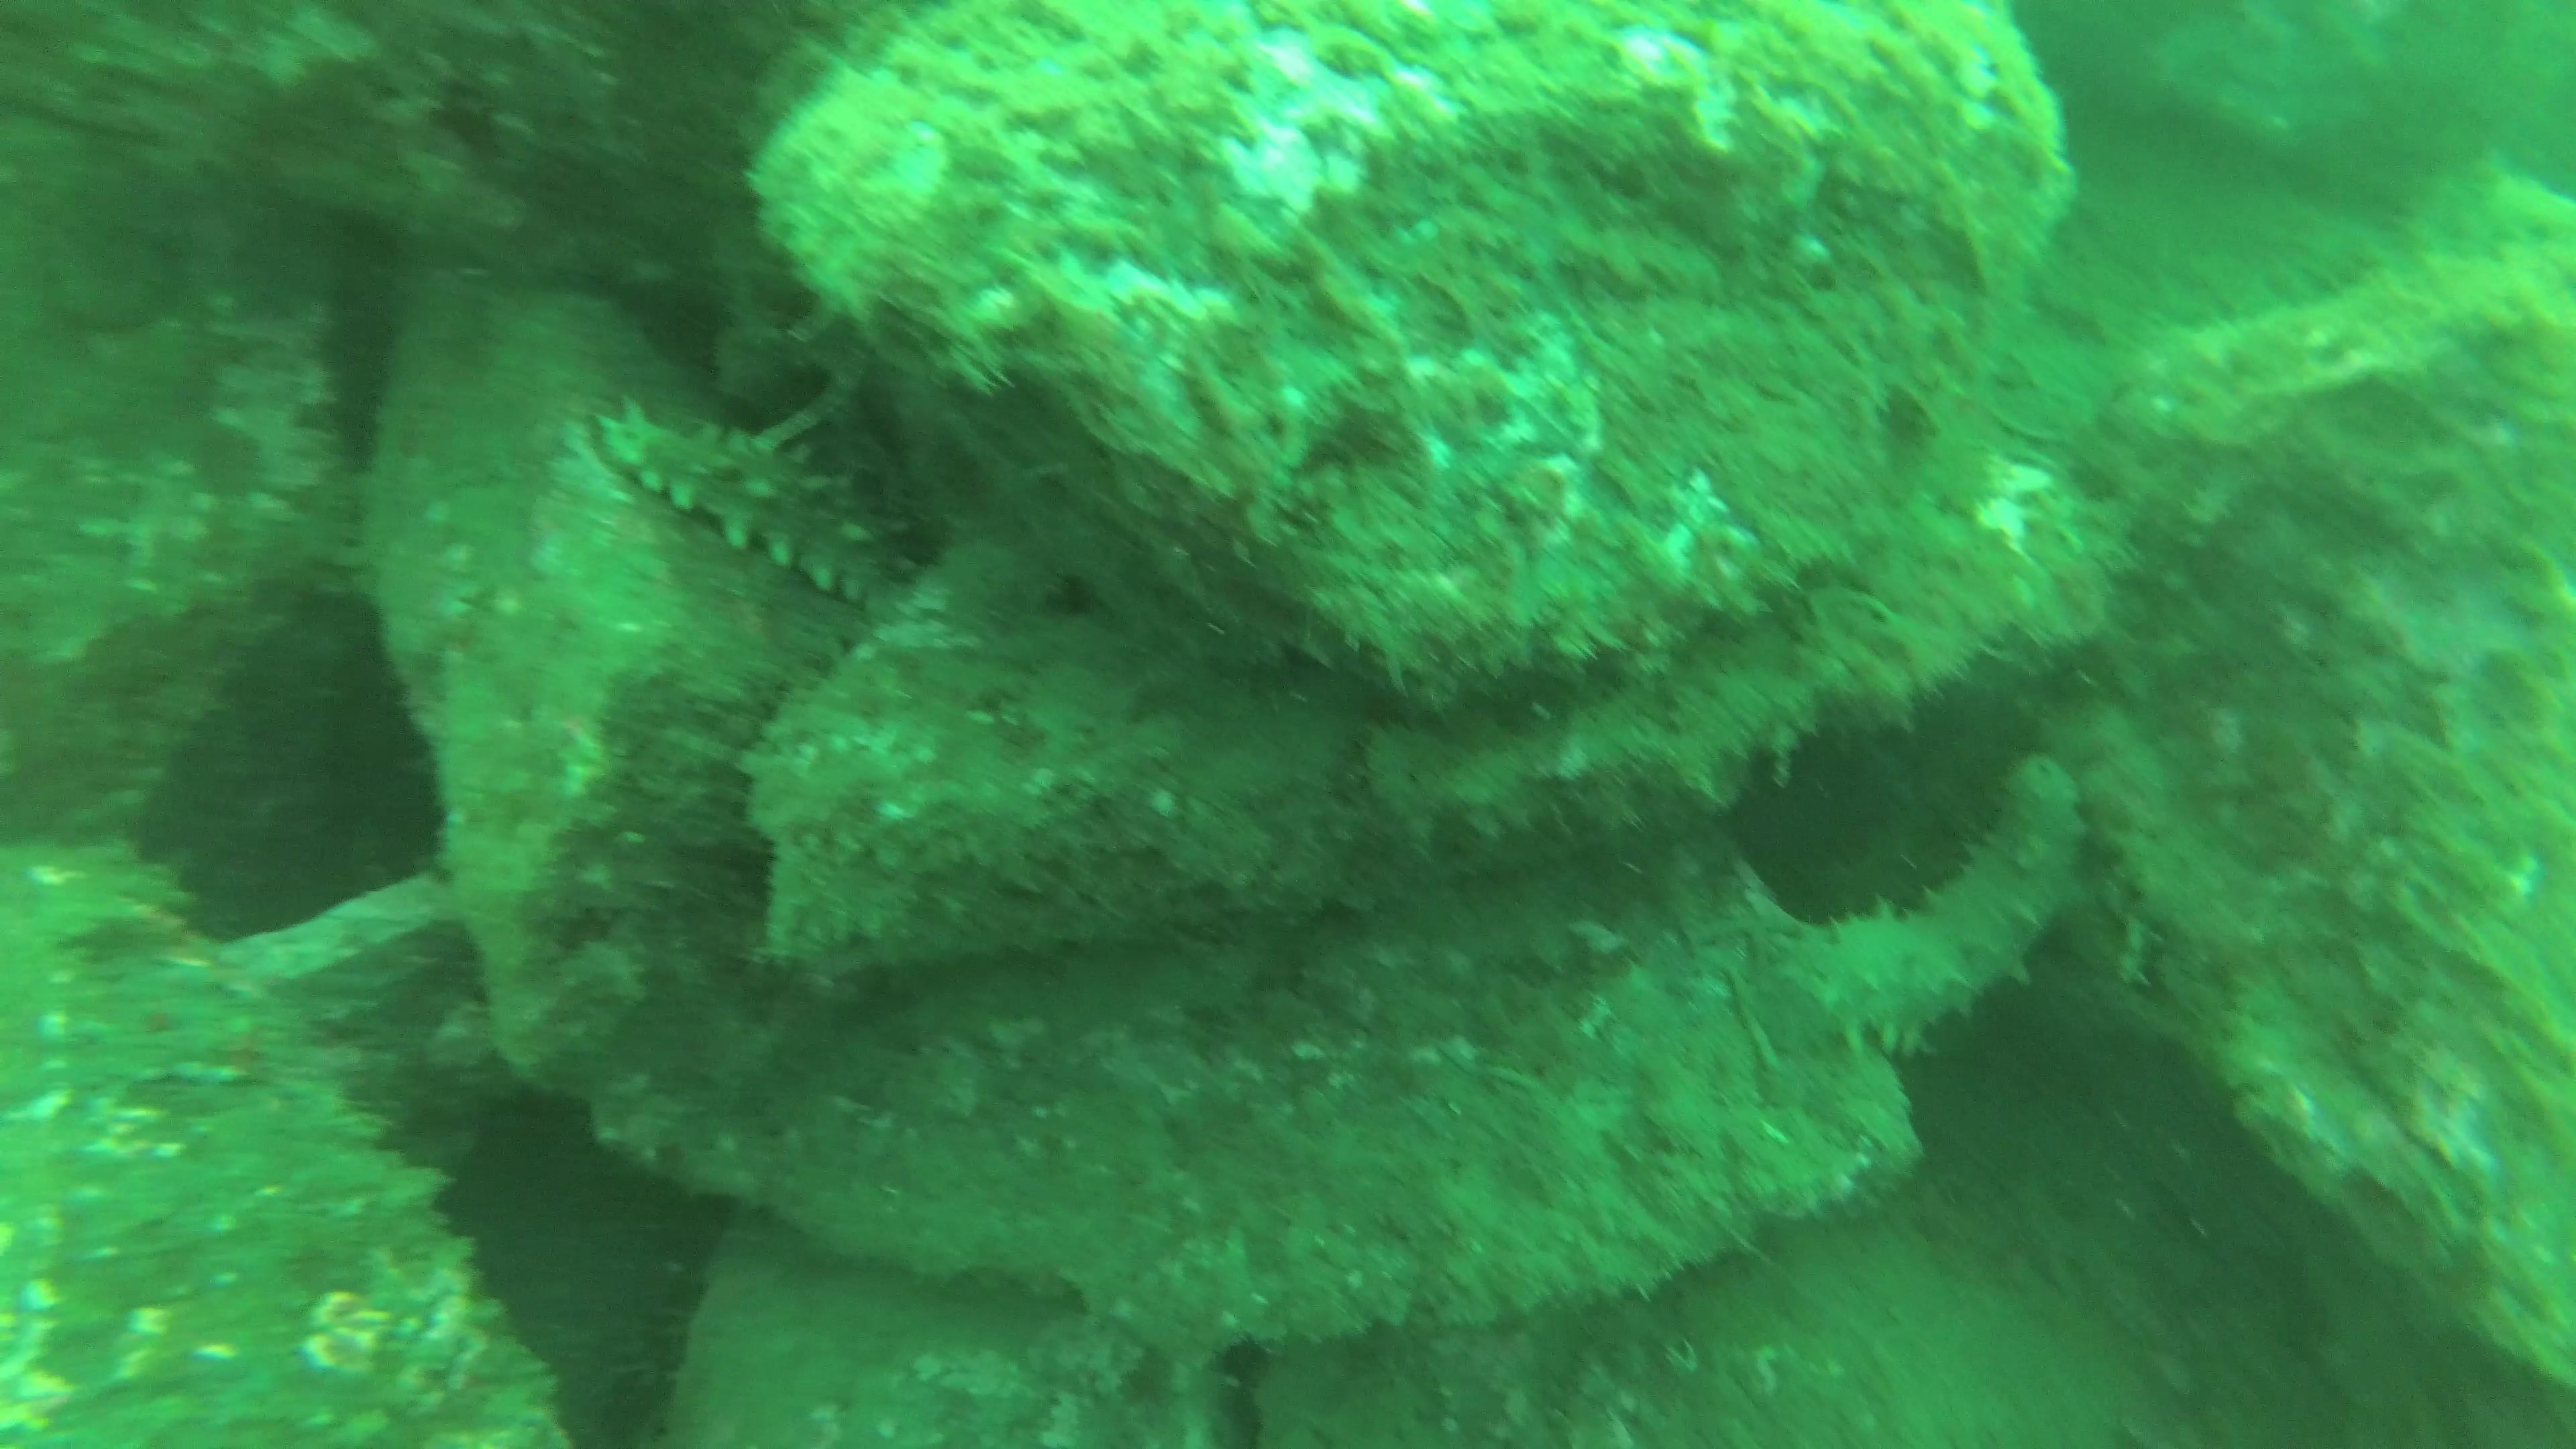holothurian: (1755, 754, 2104, 1060), (591, 395, 922, 610)
